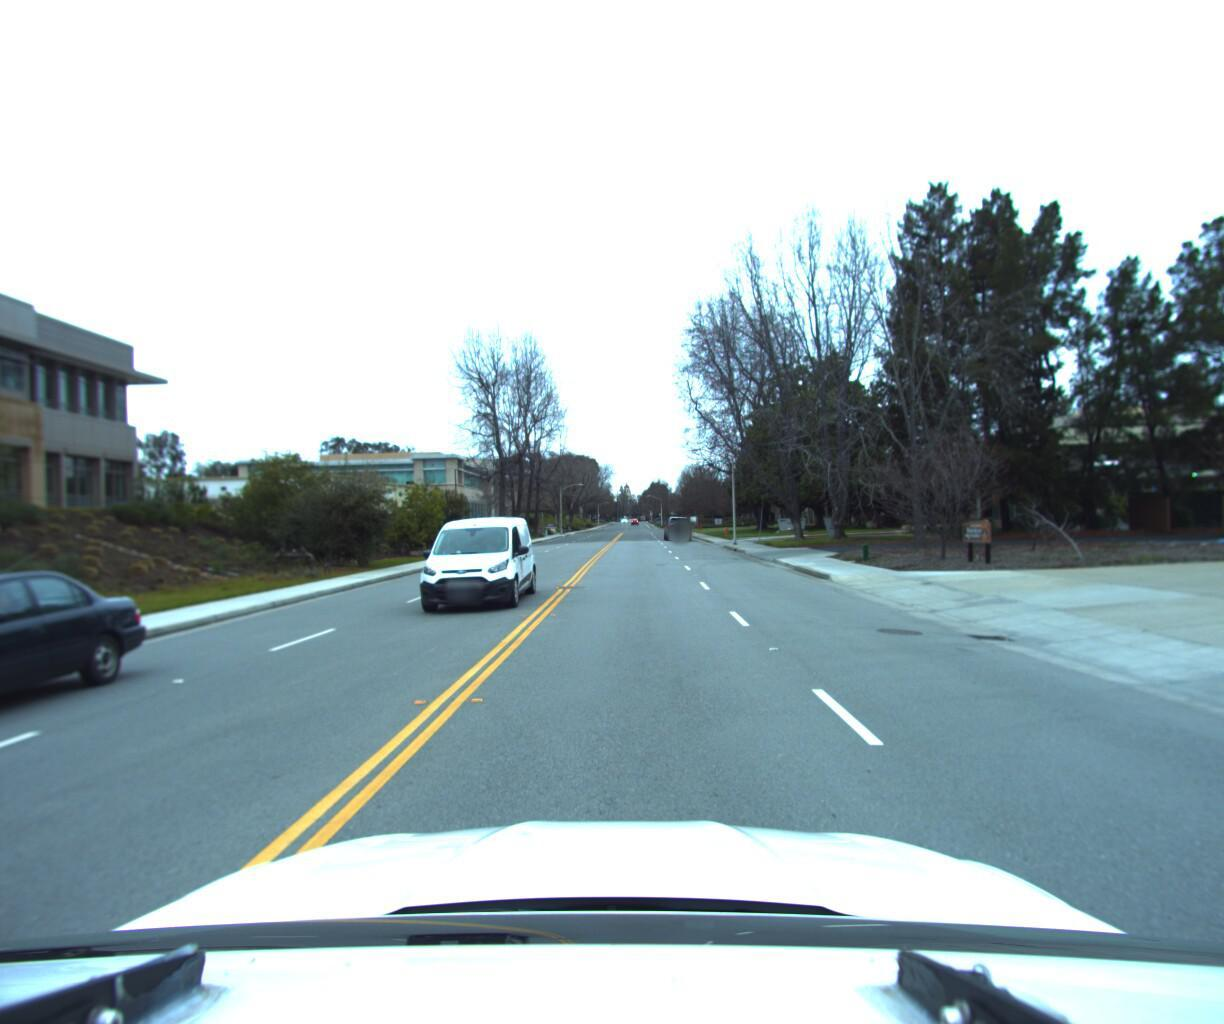car: (0, 558, 162, 788), (404, 507, 543, 614), (663, 511, 692, 538)
